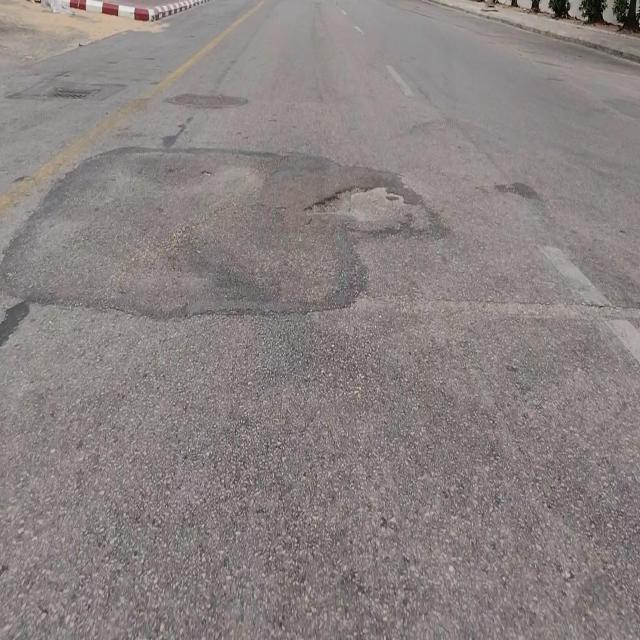Pothole: (311, 180, 400, 227)
